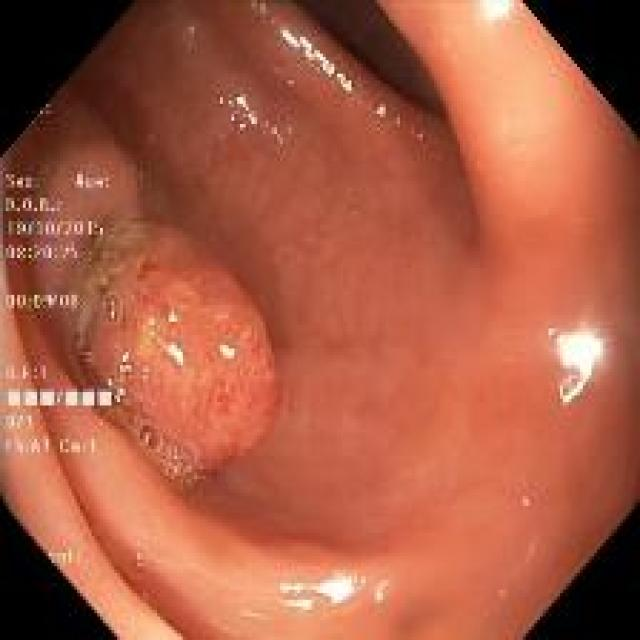Polyps: (75, 223, 281, 488)
